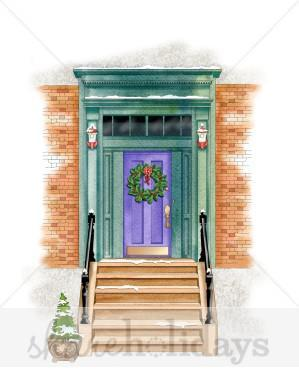pottedplant: (42, 290, 87, 363)
